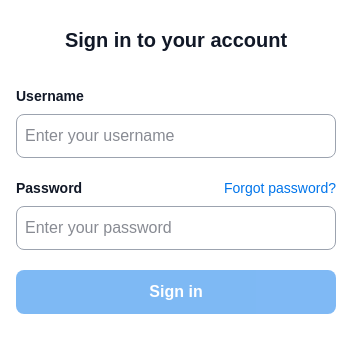
Test: SignIn Page › should handle failed sign-in and show an error message
Step 1. Type "testuser" into the field with placeholder "Enter your username" → (176, 136), box [16, 114, 336, 158]
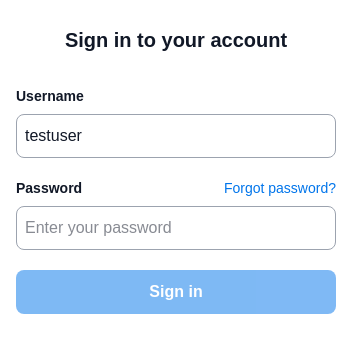
Step 2. Type "wrongpassword" into the password field with placeholder "Enter your password" → (176, 228), box [16, 206, 336, 250]
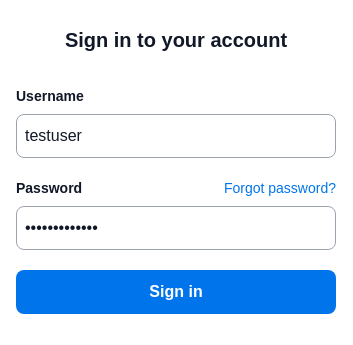
Step 3. Click the button "Sign in" → (176, 292), box [16, 270, 336, 314]
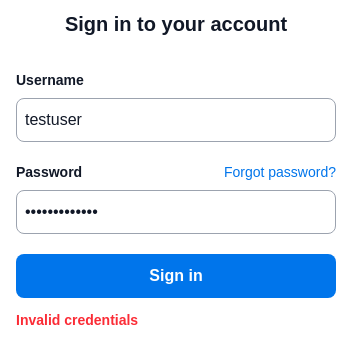
Expected: the text "Invalid credentials" is shown, [16, 312, 138, 328]
